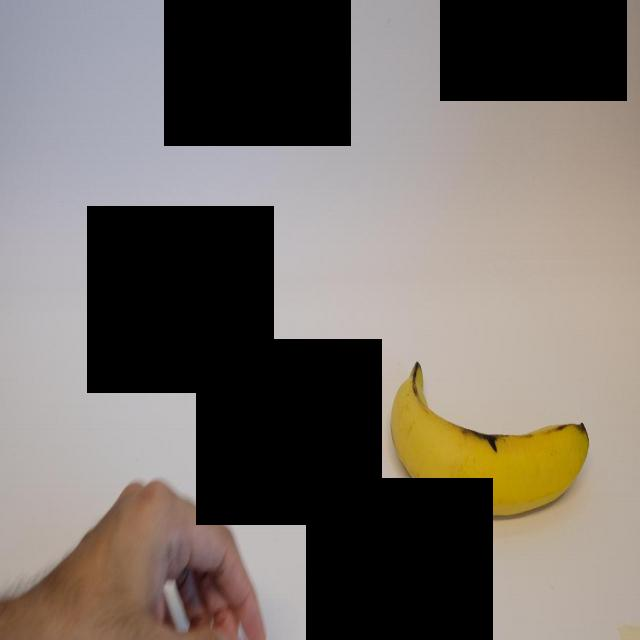banana: (384, 342, 596, 533)
